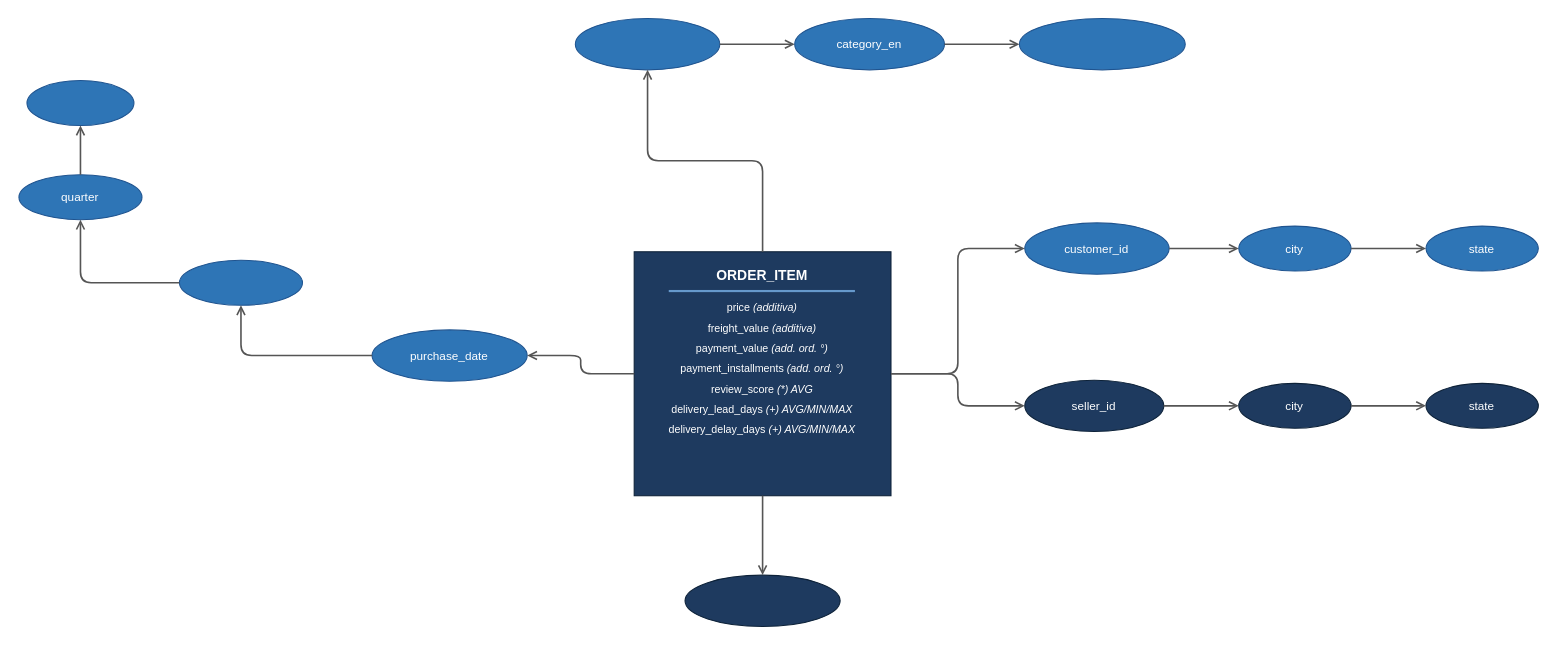
Image size: 1557x646. Some labels were removed from this diagram. The shapes that lost their labels are listed below. From the top down, each one's centre as x and y in pixels, then its label:
(647,43): product_id
(1101,43): macro_category
(80,103): year
(240,282): month
(762,600): payment_type
